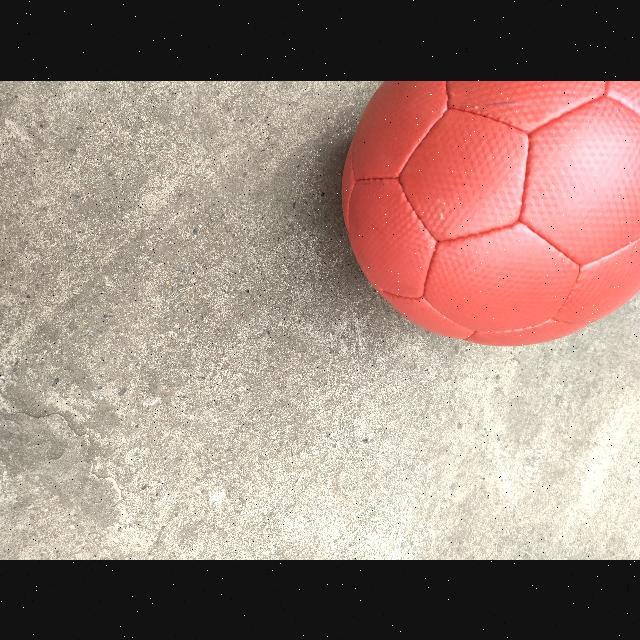R: (342, 80, 640, 344)
